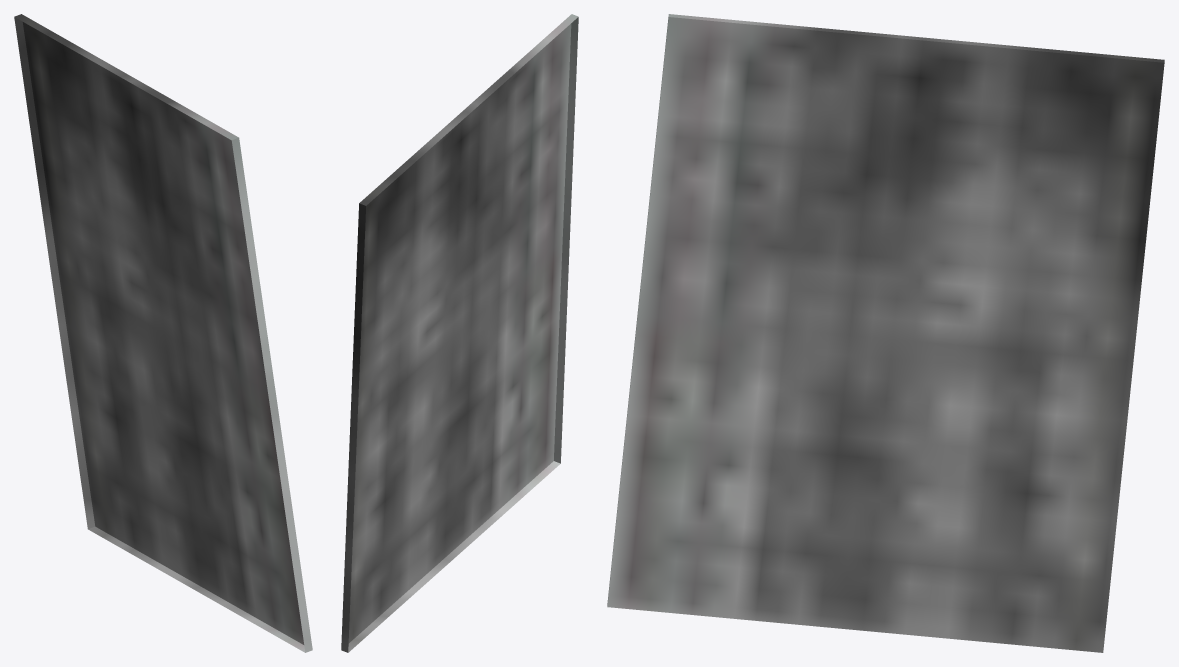
File: Paper05.FBX
3 renders of one model, left to right at view 1: azimuth 30°, elevation 25°; view 2: azimuth 150°, elevation 25°; view 3: azimuth 270°, elevation 25°, orthographic. The views are drawn at different scales.
Parts seen in each view (by area): view 1: Paper05; view 2: Paper05; view 3: Paper05.
Part boxes in pixels (left/top/right/bottom): Paper05: left=14, top=14, right=312, bottom=652; Paper05: left=341, top=14, right=578, bottom=652; Paper05: left=607, top=14, right=1164, bottom=652.
Size of the model in its own units: 2.42 by 21.96 by 18.19.
